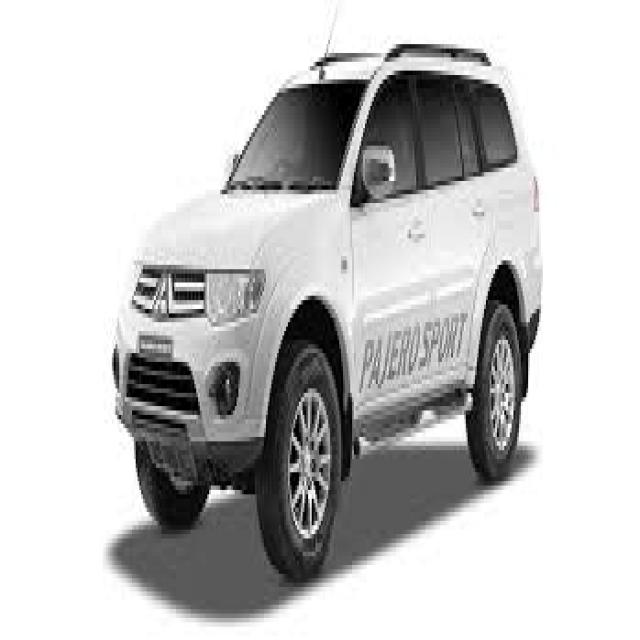light_vehicle: (111, 46, 544, 585)
